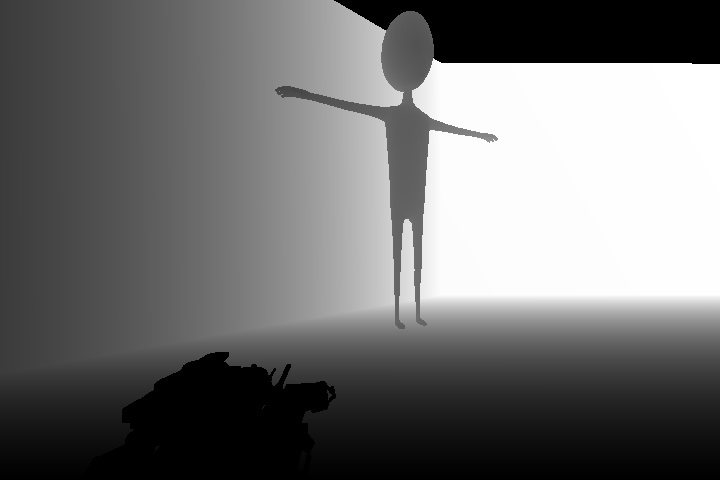alien: (273, 8, 502, 332)
